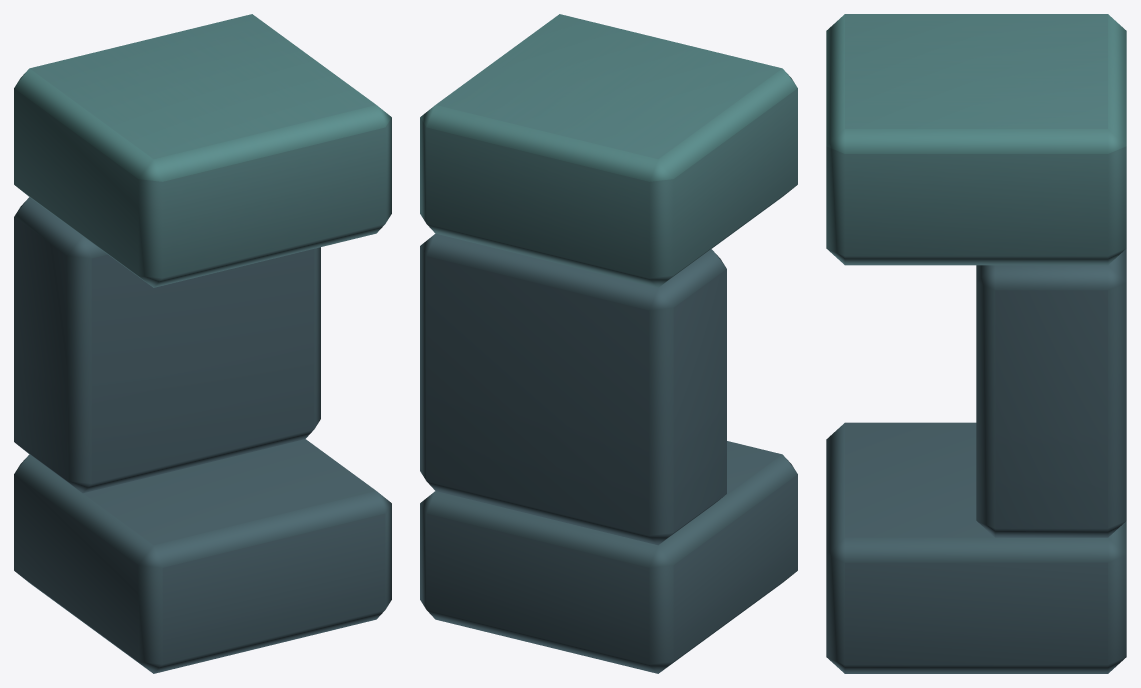
The model's file is wall_pannel_03_hue_1.fbx.
3 renders of one model, left to right at view 1: azimuth 30°, elevation 25°; view 2: azimuth 150°, elevation 25°; view 3: azimuth 270°, elevation 25°, orthographic. The views are drawn at different scales.
Parts seen in each view (by area): view 1: wall_pannel_03_hue_1; view 2: wall_pannel_03_hue_1; view 3: wall_pannel_03_hue_1.
Boxes of the visible parts, box(x1,y1,x2,y2) form: wall_pannel_03_hue_1: box(14, 14, 391, 673); wall_pannel_03_hue_1: box(420, 14, 797, 673); wall_pannel_03_hue_1: box(826, 14, 1126, 673).
Size of the model in its own units: 51.56 by 100 by 50.
